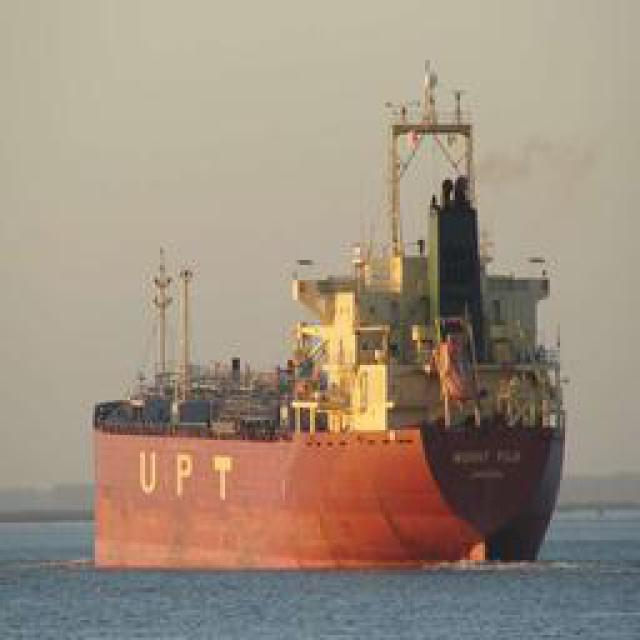Ship: (66, 57, 586, 585)
